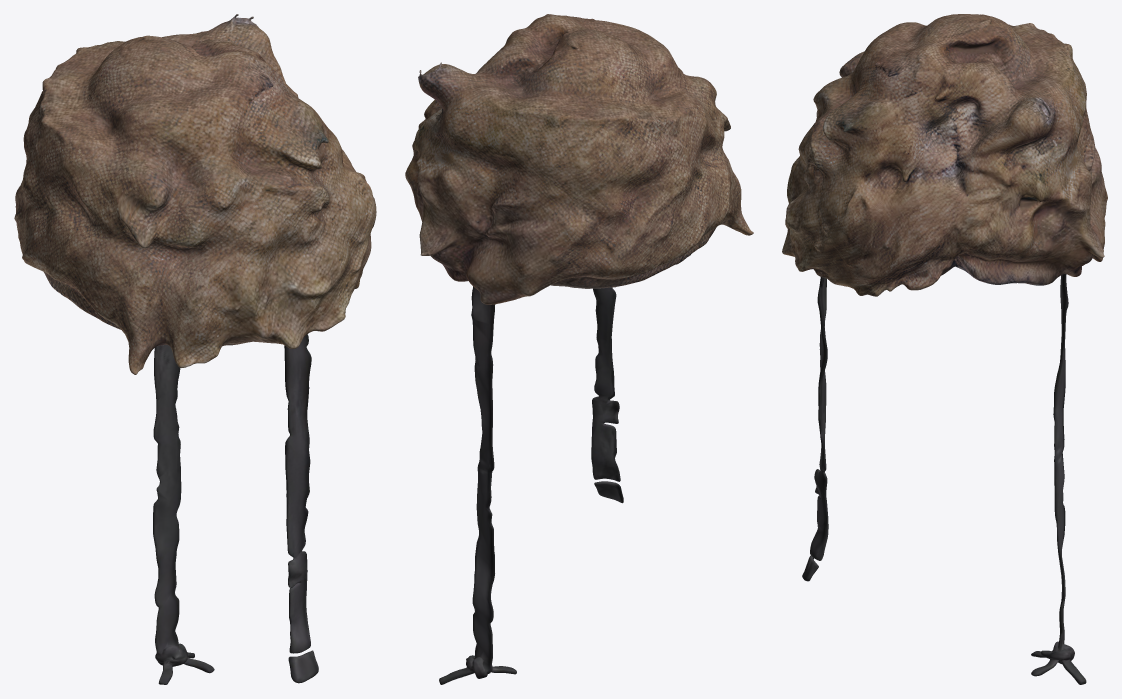
Rendered from cap.glb.
The picture shows the model from 3 angles, left to right: view 1: azimuth 30°, elevation 25°; view 2: azimuth 150°, elevation 25°; view 3: azimuth 270°, elevation 25°; orthographic projection. The views are drawn at different scales.
Visible parts, largest first — view 1: tripo_node_d32f5a1d-cff5-4a46-91bb-0070f334aaee; view 2: tripo_node_d32f5a1d-cff5-4a46-91bb-0070f334aaee; view 3: tripo_node_d32f5a1d-cff5-4a46-91bb-0070f334aaee.
Part boxes in pixels (box(x1,y1,x2,y2)): tripo_node_d32f5a1d-cff5-4a46-91bb-0070f334aaee: box(14, 14, 376, 684); tripo_node_d32f5a1d-cff5-4a46-91bb-0070f334aaee: box(405, 14, 753, 684); tripo_node_d32f5a1d-cff5-4a46-91bb-0070f334aaee: box(782, 14, 1107, 684).
Size of the model in its own units: 0.4779 by 1 by 0.4745.
Materials: 1 (1 with a texture image).
